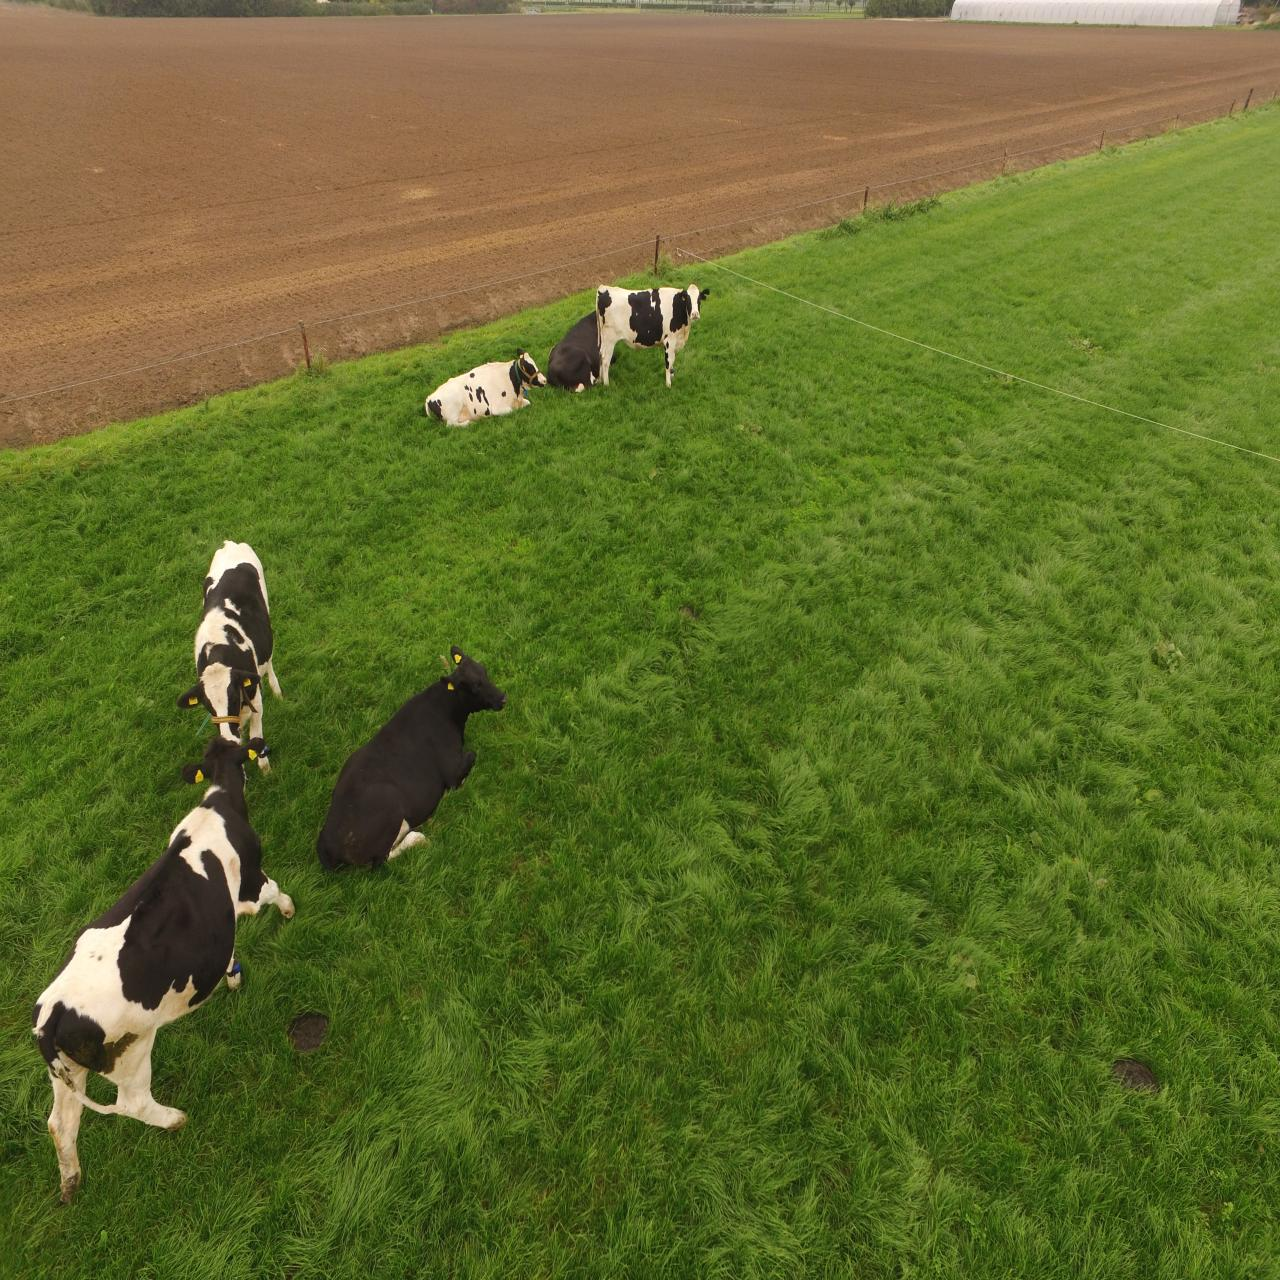cow: (25, 757, 263, 1207), (327, 645, 504, 874), (168, 565, 288, 764), (604, 282, 712, 392), (379, 368, 530, 422), (545, 327, 610, 379)
